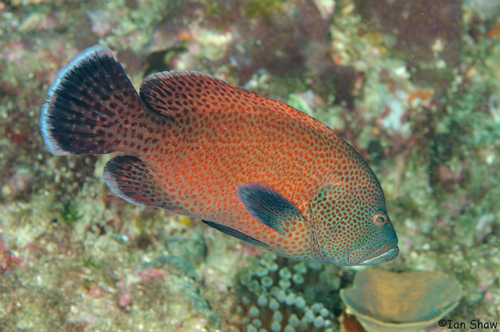fish: (41, 45, 400, 268)
